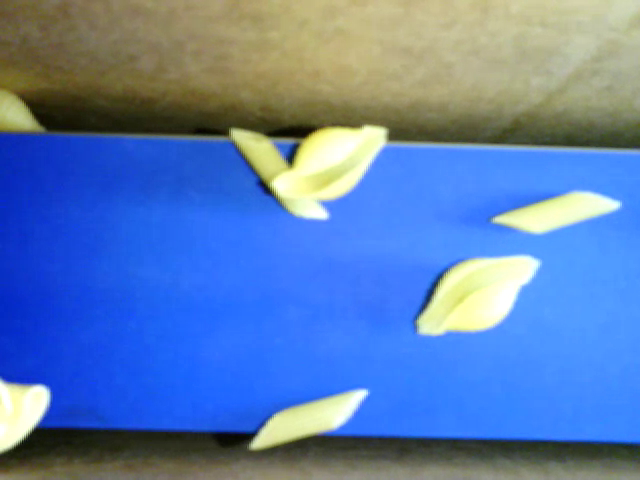penne: (228, 122, 331, 223), (245, 380, 376, 454), (492, 178, 621, 245)
shell: (410, 253, 549, 341), (269, 119, 394, 200), (2, 84, 52, 139)
tortellini: (5, 382, 49, 452)
